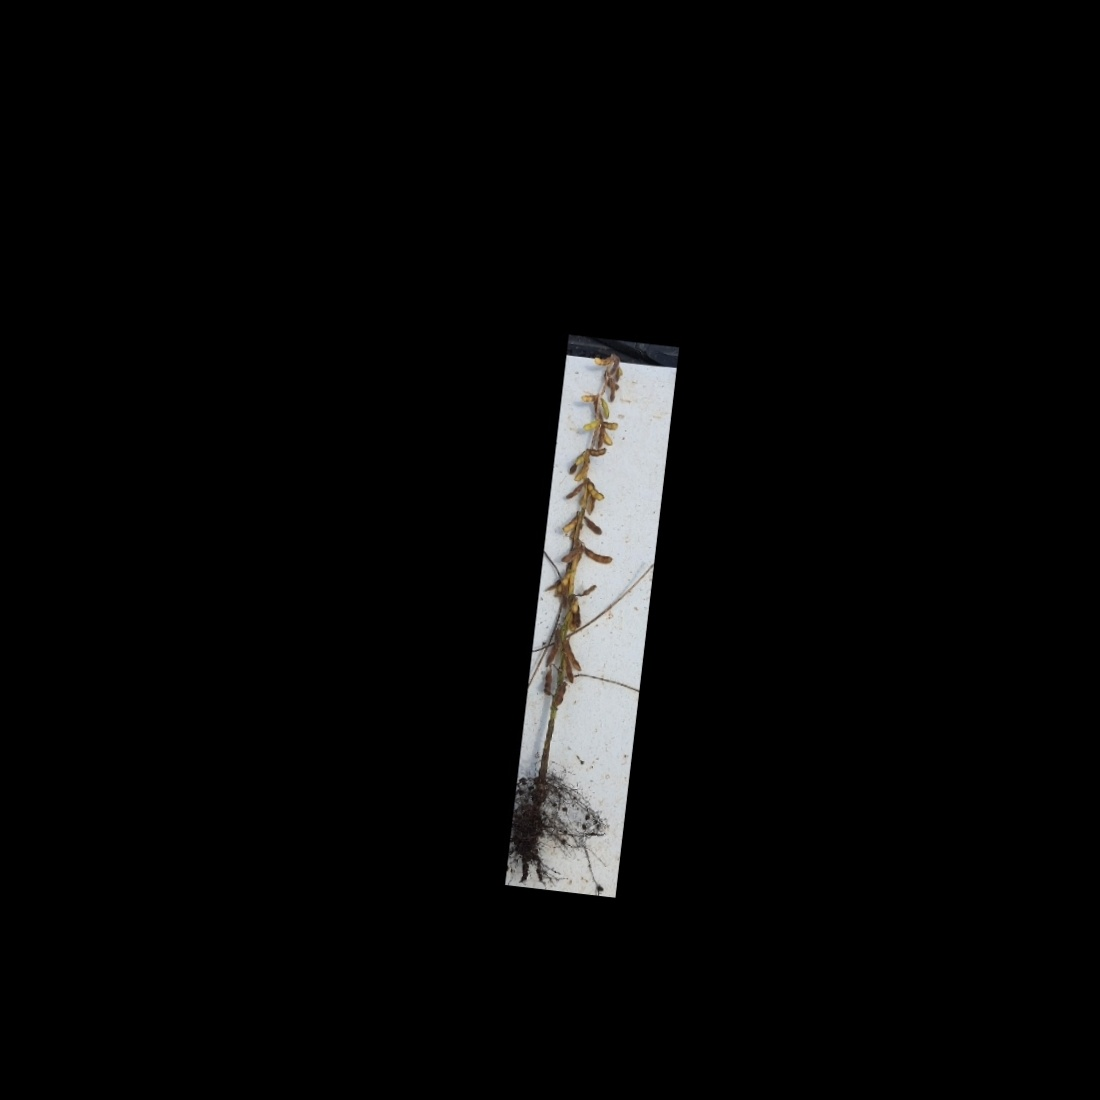pod: (580, 544, 616, 568), (560, 478, 584, 506), (585, 479, 608, 503), (581, 515, 606, 535), (561, 658, 577, 685), (590, 351, 612, 370), (559, 512, 578, 534), (597, 396, 613, 421), (580, 387, 599, 408), (589, 444, 607, 459)
soy: (513, 341, 662, 861)
